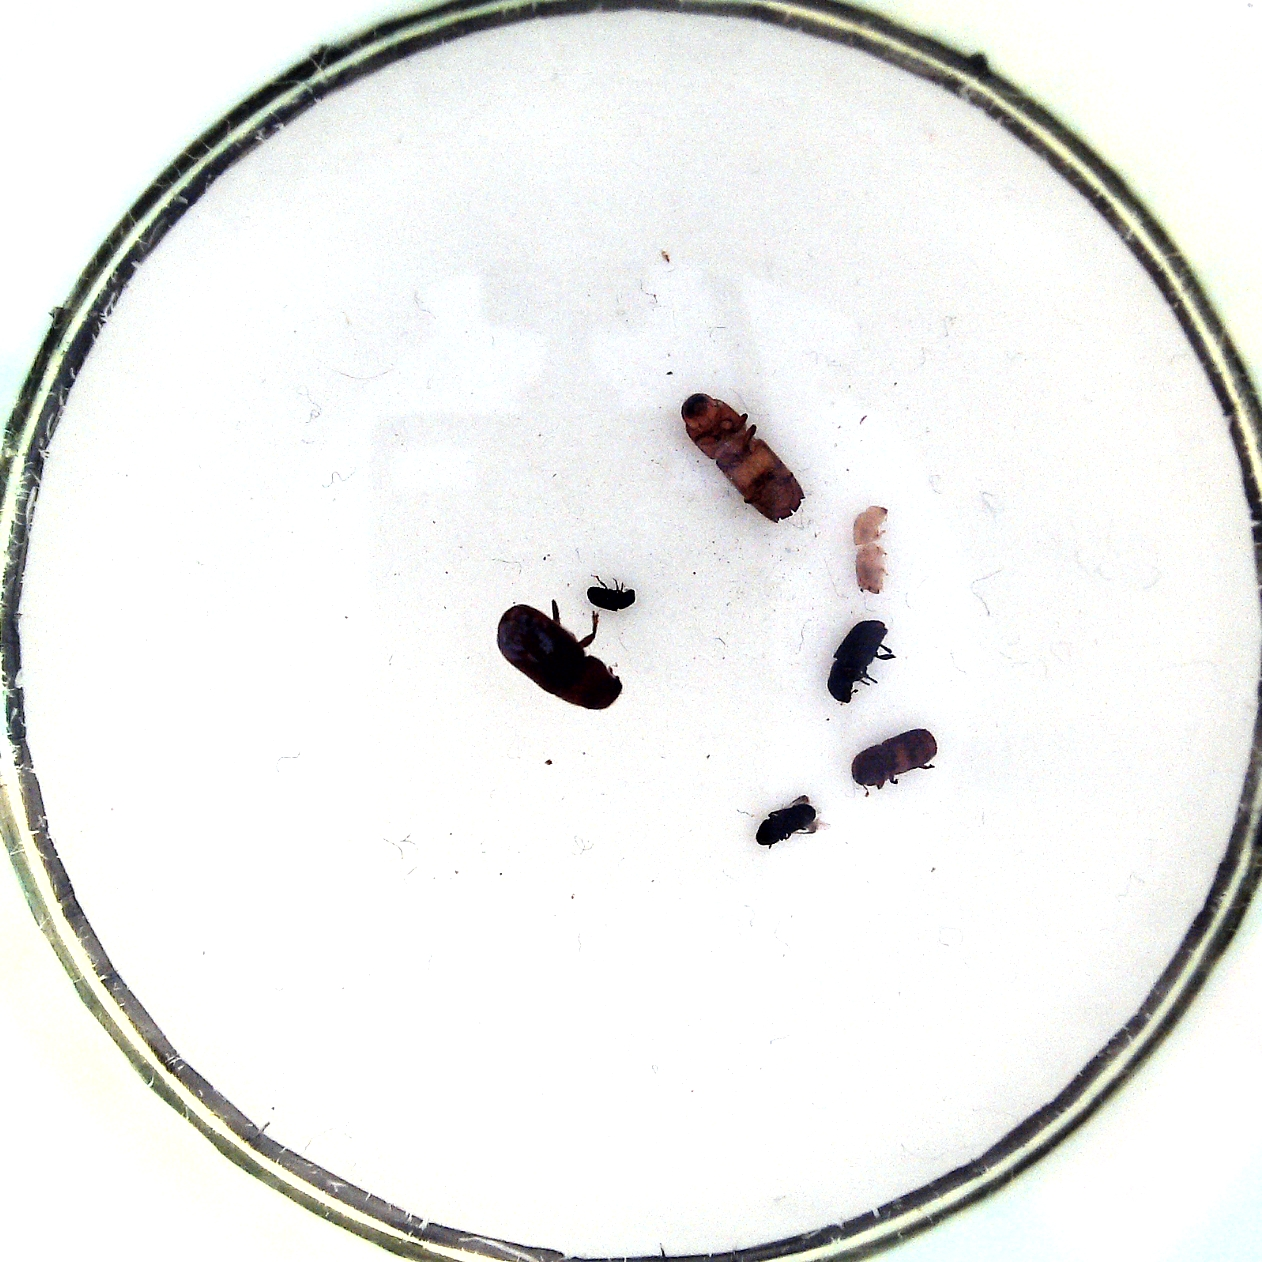Boerner: (677, 389, 811, 525)
Leconte: (490, 591, 626, 713)
Linnaeus: (849, 725, 940, 797)
acuminatus: (846, 500, 893, 595)
armandi: (821, 615, 901, 705)
coleoptera: (752, 790, 833, 851), (580, 571, 638, 617)
